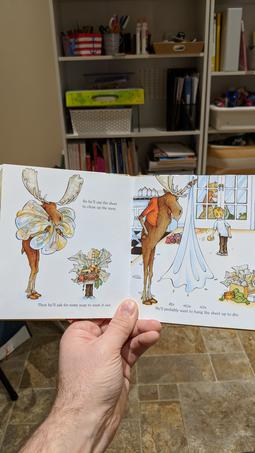text block: (151, 299, 245, 320), (75, 195, 124, 216), (33, 298, 117, 310)
